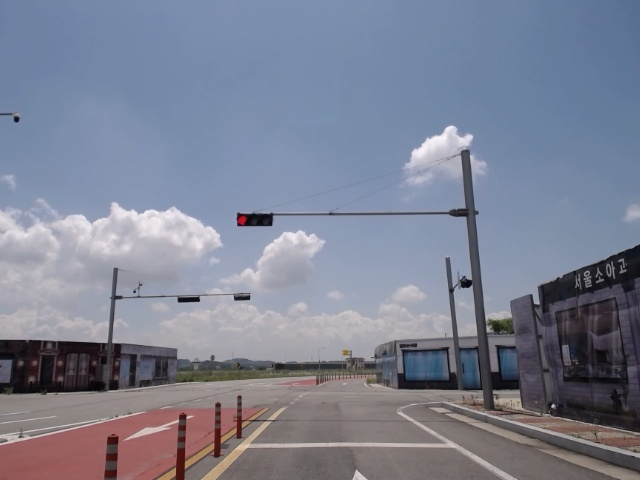red_3: (238, 214, 274, 228)
